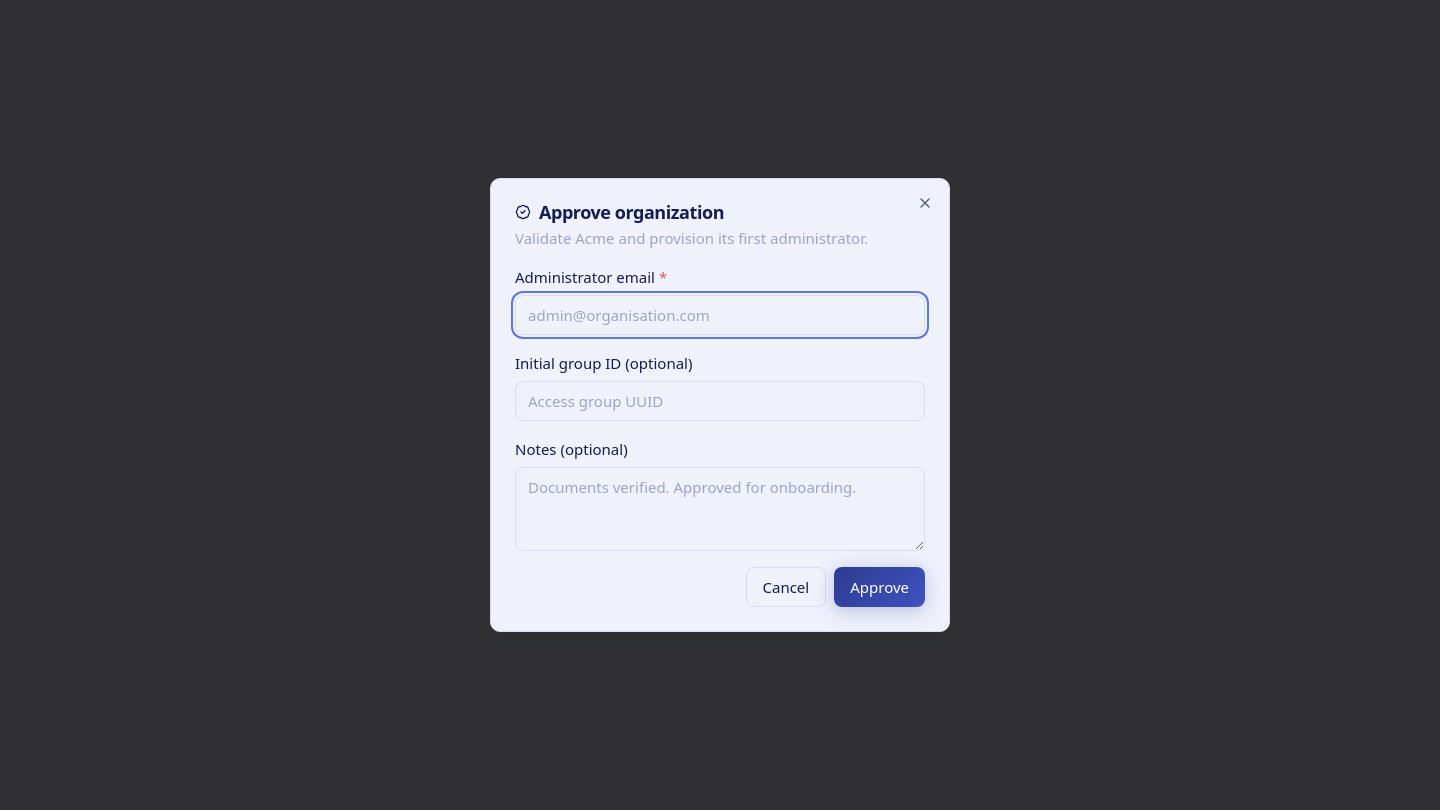
Test case: ApproveOrganizationDialog › blocks approval and explains why when the admin email is missing
Step 1. Click the button "Approve" → (880, 587), box [834,567,925,607]
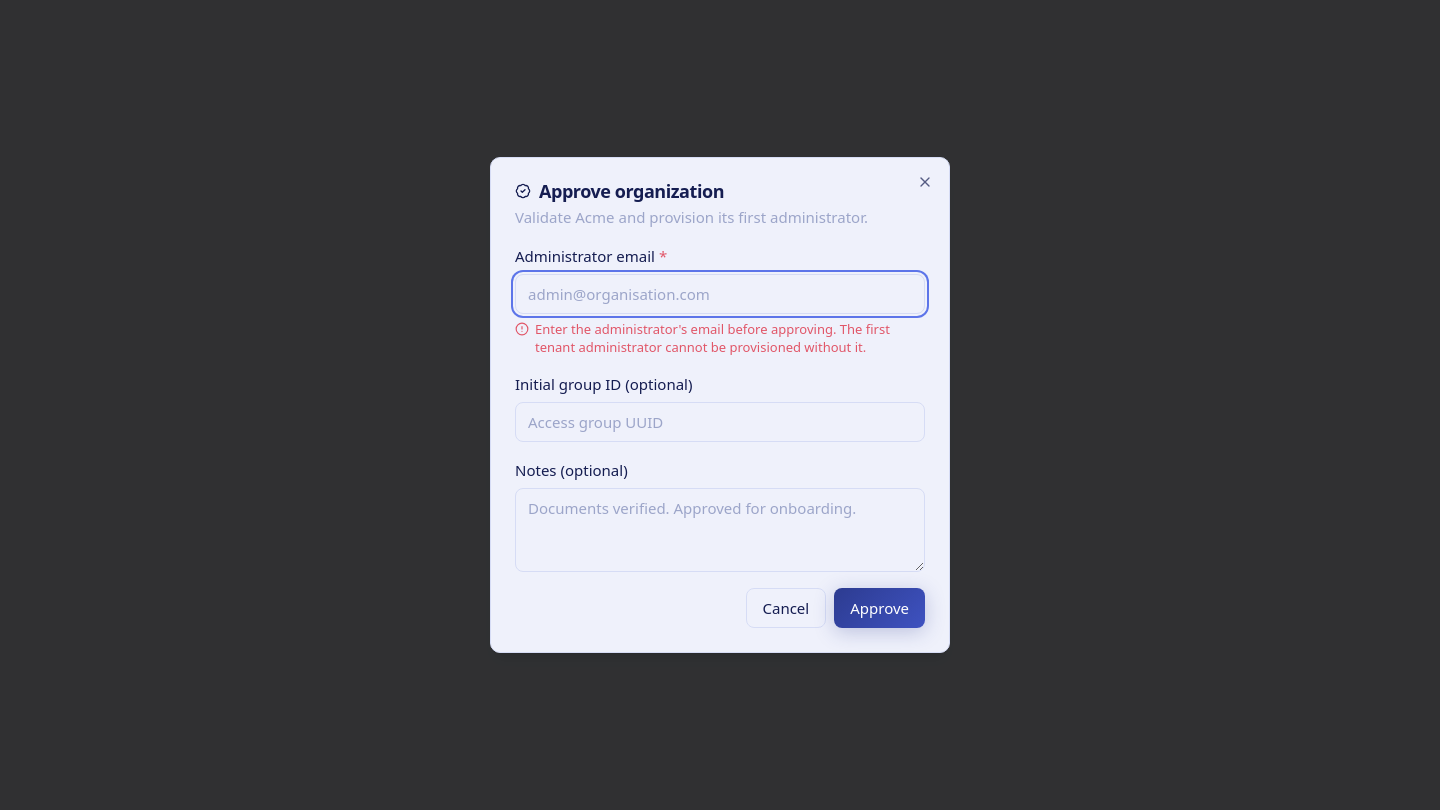
expect the message shows "administrator's email": met, box [535,320,890,356]
